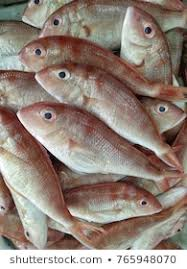Ikan Kerisi: (9, 99, 150, 171), (26, 62, 154, 128), (12, 34, 146, 88), (51, 181, 175, 231), (116, 5, 184, 94)
